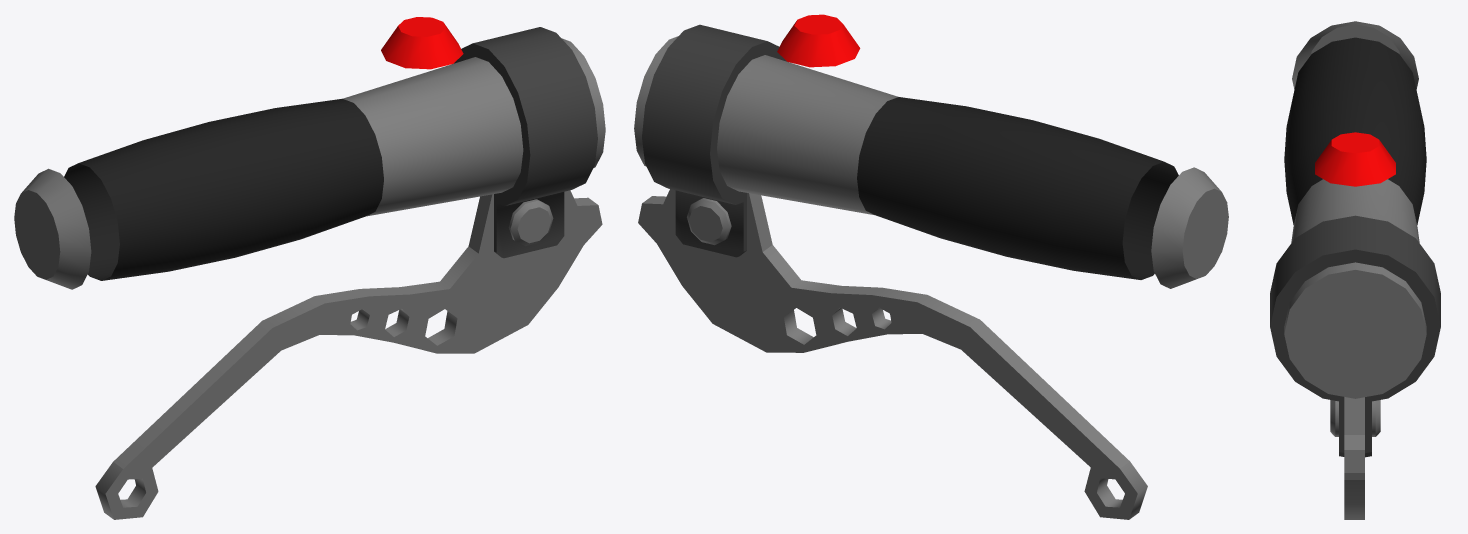
The model's file is Swi_WoBa_1X2_off.FBX.
3 renders of one model, left to right at view 1: azimuth 30°, elevation 25°; view 2: azimuth 150°, elevation 25°; view 3: azimuth 270°, elevation 25°, orthographic. The views are drawn at different scales.
Visible parts, largest first — view 1: Box013; view 2: Box013; view 3: Box013.
Boxes of the visible parts, <box> form: Box013: <box>14,17,605,519</box>; Box013: <box>634,14,1228,519</box>; Box013: <box>1270,21,1440,519</box>.
Bounding box in the file's own units: 2.33 × 1.66 × 0.69.
